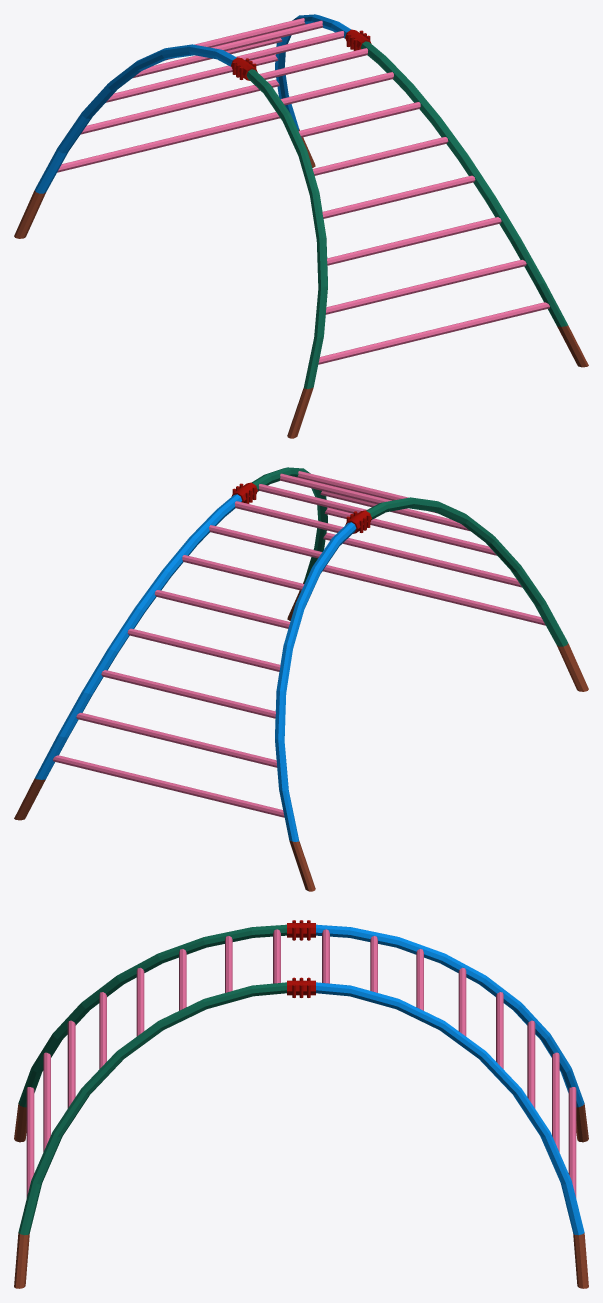
Rendered from asset0.glb.
The picture shows the model from 3 angles, top to bottom: view 1: azimuth 30°, elevation 25°; view 2: azimuth 150°, elevation 25°; view 3: azimuth 270°, elevation 25°; orthographic projection. The views are drawn at different scales.
Parts seen in each view (by area): view 1: MonkeyBar.001; view 2: MonkeyBar.001; view 3: MonkeyBar.001.
Boxes of the visible parts, x1,y1,x2,y2 form: MonkeyBar.001: (14, 14, 588, 438); MonkeyBar.001: (14, 467, 588, 891); MonkeyBar.001: (14, 920, 588, 1288).
Size of the model in its own units: 1.84 by 1.48 by 2.96.
